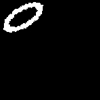chain: (4, 2, 42, 31)
